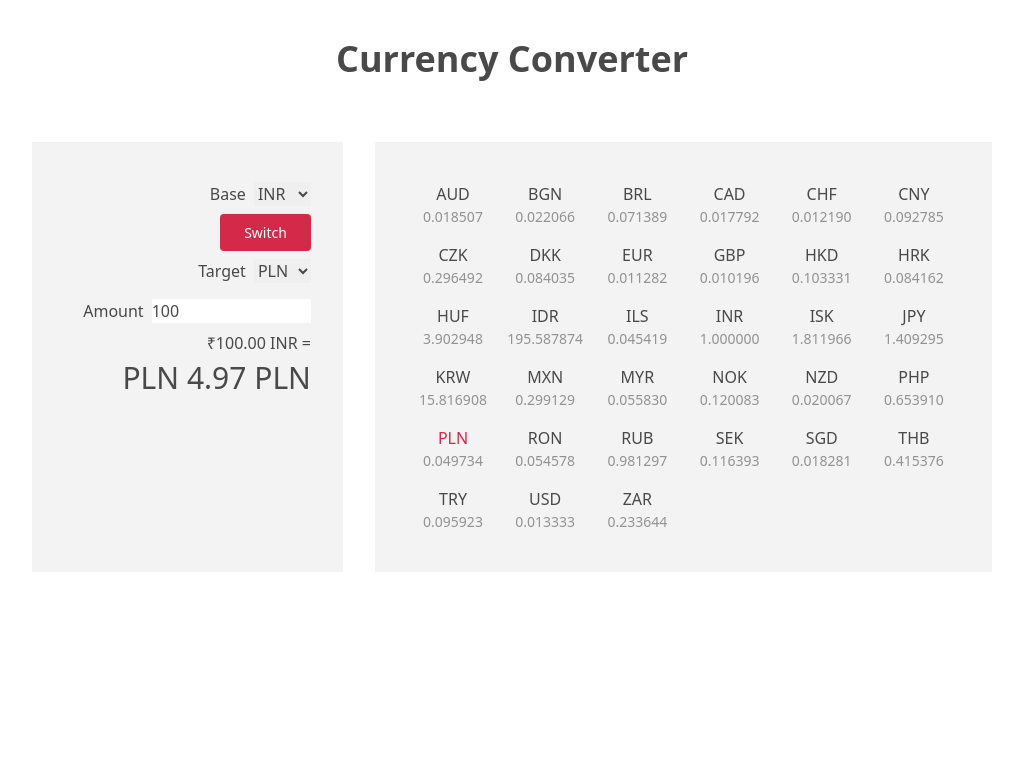
Currency Converter › When the base currency is changed, the application should fetch new conversion rates
The image size is (1024, 768).
Select "GBP" in the dropdown with id "baseCurrency". click: {"x": 283, "y": 194}
box: [254,182,311,206]
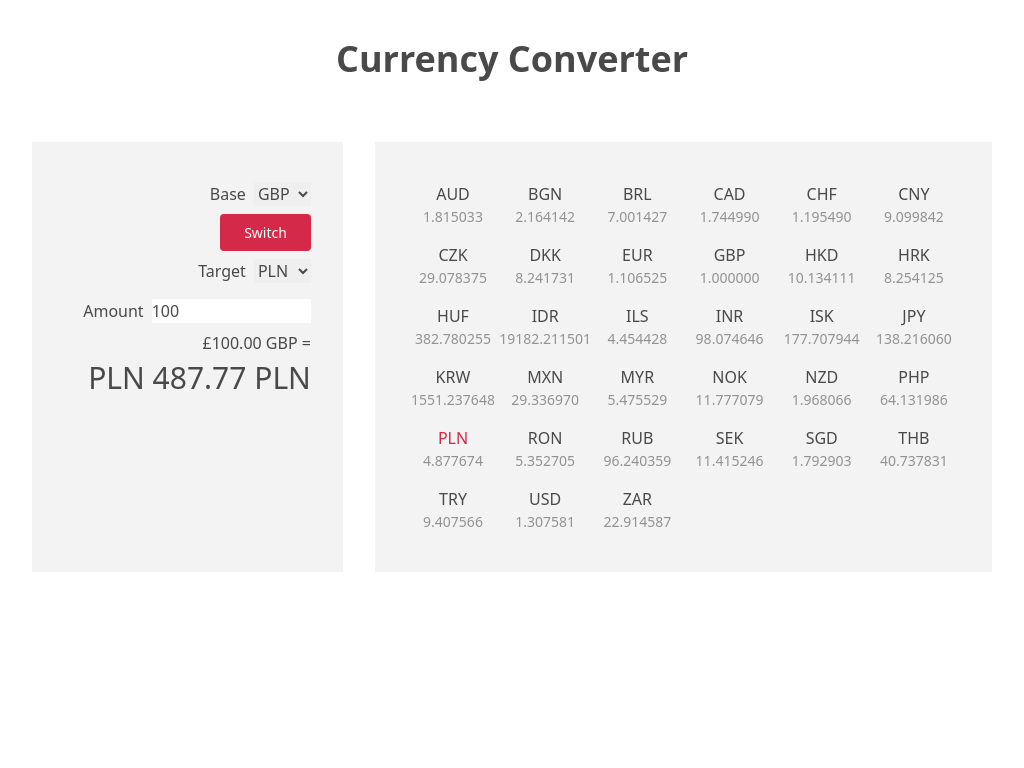
Now the text with class "currency-calculation" shows "487.77 PLN", box [88,355,311,400]
